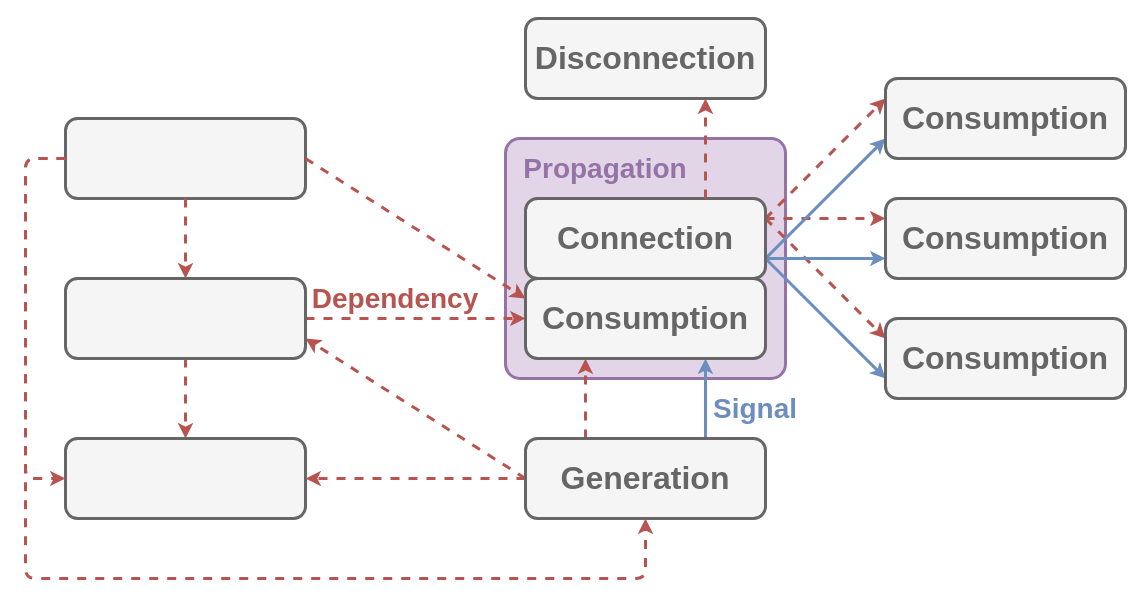
Some shapes in this 1144 by 605 pixel diagram are drawn without their labels. The shapes that lost their labels are listed below. From the top down, each one's centre as x and y in pixels, then its label:
At [185,158]: "Ignition".
At [185,318]: "Production".
At [185,478]: "Emission".
